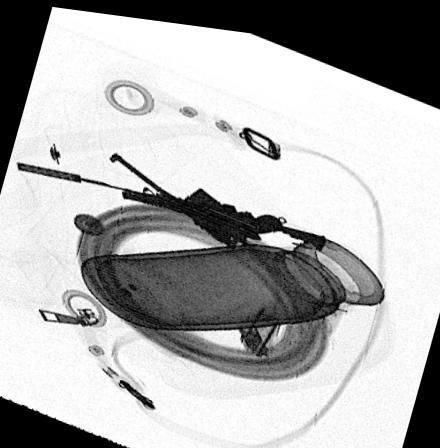Gun: (16, 160, 328, 243), (105, 152, 287, 241)
